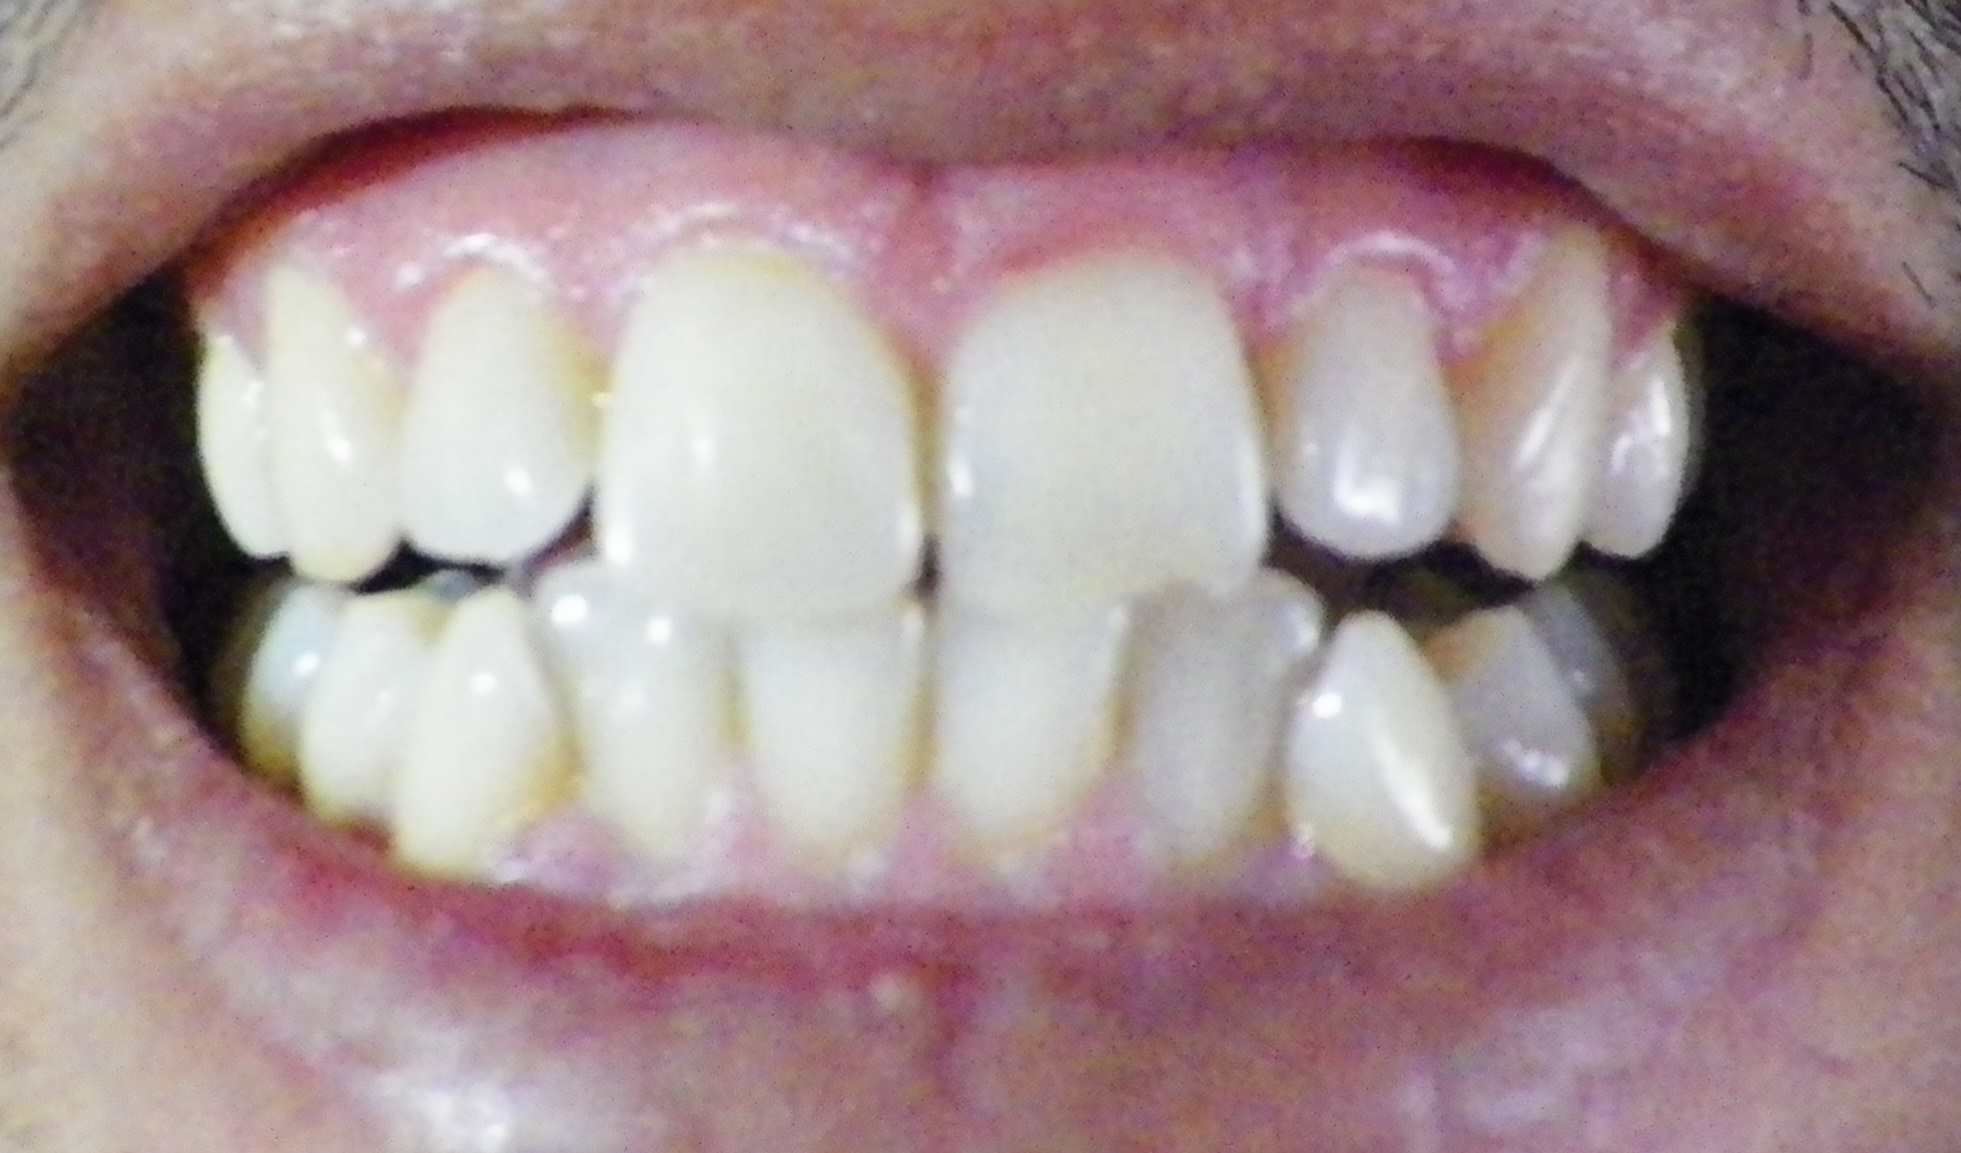boca: (189, 259, 1691, 878)
